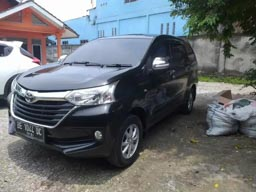plat: (16, 122, 44, 140)
